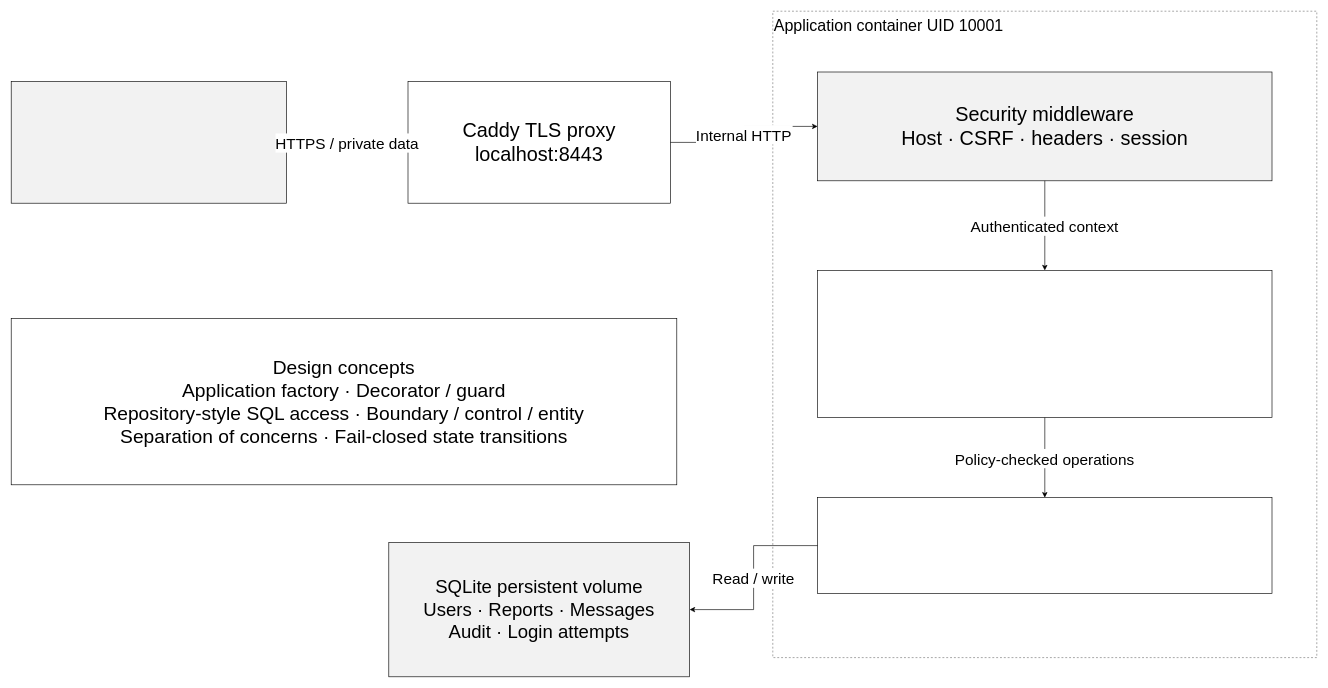
The diagram is 1328 pixels wide and 688 high, and some of its shapes have lost their labels. The centre of each missing label's shape, as x and y in pixels:
"Browser interface Student / Faculty / Admin" belongs at point 148,142.
"Flask services Identity | Reports | Messaging Recovery | Moderation | Audit" belongs at point 1044,344.
"Repository access Bounded queries + parameterized SQL" belongs at point 1044,545.
